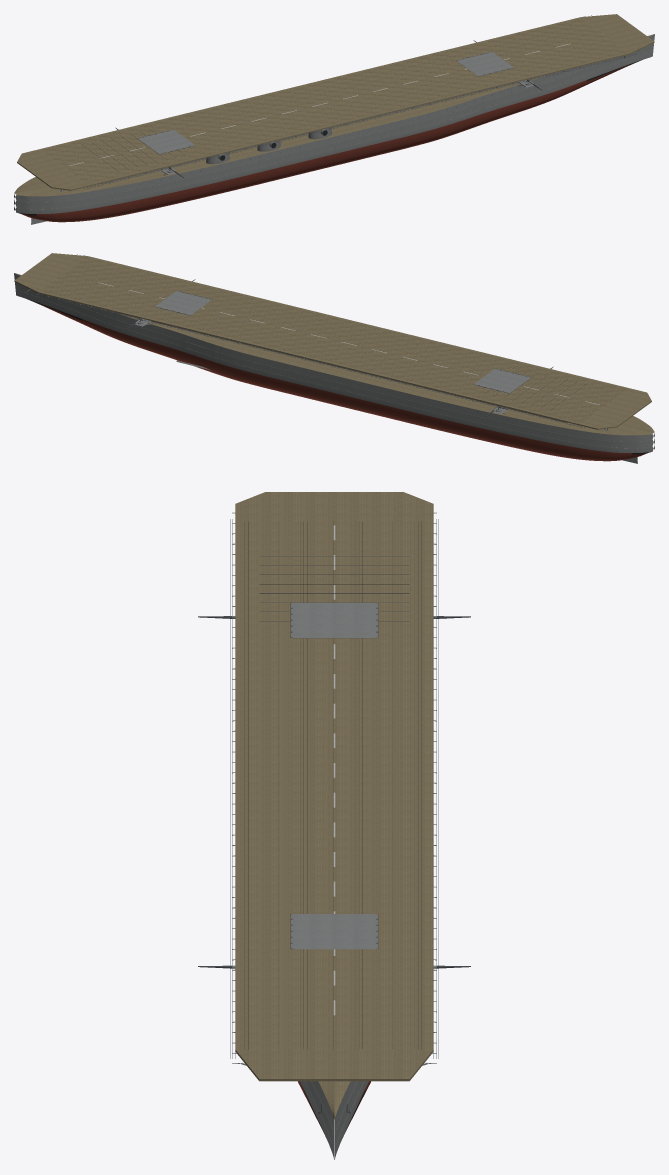
The model's file is hosho.glb.
The picture shows the model from 3 angles, top to bottom: view 1: azimuth 30°, elevation 25°; view 2: azimuth 150°, elevation 25°; view 3: azimuth 270°, elevation 25°; orthographic projection. The views are drawn at different scales.
Visible parts, largest first — view 1: Hosho; view 2: Hosho; view 3: Hosho.
Part boxes in pixels (<box>): Hosho: <box>14,14,654,224</box>; Hosho: <box>14,253,654,463</box>; Hosho: <box>198,492,470,1159</box>.
Bounding box in the file's own units: 168 × 12.93 × 31.05.
8 materials, 7 textured.
